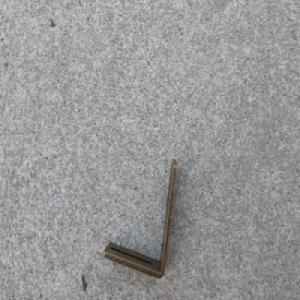MetalPart: (103, 157, 178, 279)
